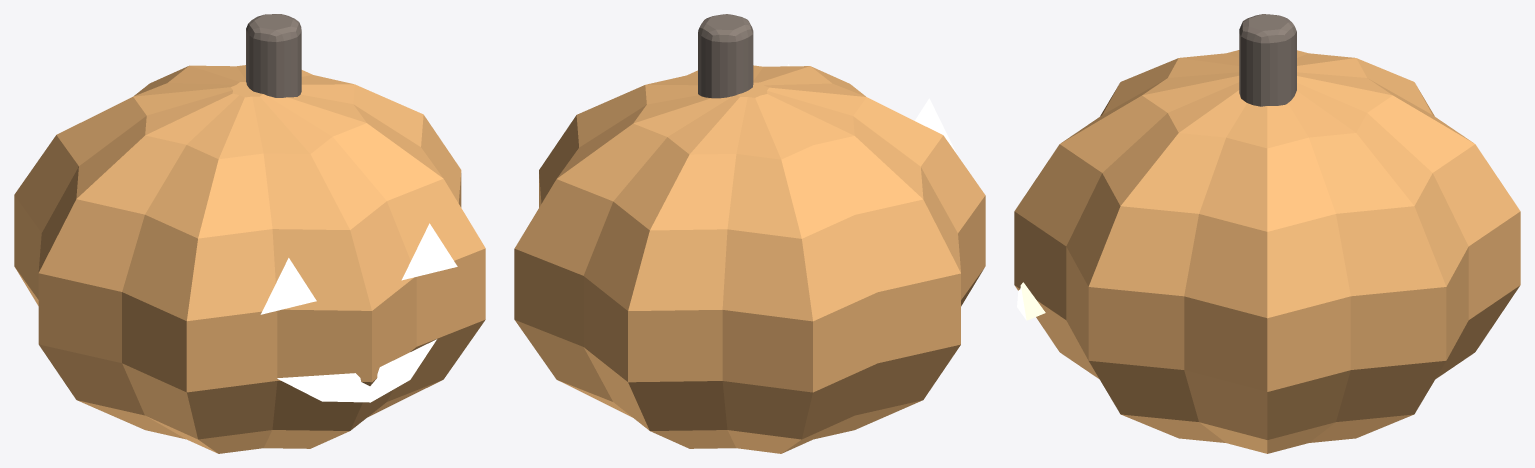
File: golden_harvestpumpkin.glb
The picture shows the model from 3 angles, left to right: view 1: azimuth 30°, elevation 25°; view 2: azimuth 150°, elevation 25°; view 3: azimuth 270°, elevation 25°; orthographic projection. The views are drawn at different scales.
Visible parts, largest first — view 1: GS_HarvestPumpkin_RibbedBody_HarvestOrange, GS_HarvestPumpkin_Stem_BarkWood, GS_HarvestPumpkin_Smile_CandleGold, GS_HarvestPumpkin_Eye-1_CandleGold, GS_HarvestPumpkin_Eye1_CandleGold; view 2: GS_HarvestPumpkin_RibbedBody_HarvestOrange, GS_HarvestPumpkin_Stem_BarkWood, GS_HarvestPumpkin_Eye-1_CandleGold; view 3: GS_HarvestPumpkin_RibbedBody_HarvestOrange, GS_HarvestPumpkin_Stem_BarkWood, GS_HarvestPumpkin_Smile_CandleGold.
Boxes of the visible parts, left/top/right/bottom form: GS_HarvestPumpkin_RibbedBody_HarvestOrange: left=14, top=65, right=485, bottom=453; GS_HarvestPumpkin_Stem_BarkWood: left=246, top=14, right=301, bottom=97; GS_HarvestPumpkin_Smile_CandleGold: left=277, top=339, right=436, bottom=402; GS_HarvestPumpkin_Eye-1_CandleGold: left=260, top=258, right=316, bottom=314; GS_HarvestPumpkin_Eye1_CandleGold: left=401, top=223, right=457, bottom=280; GS_HarvestPumpkin_RibbedBody_HarvestOrange: left=514, top=65, right=985, bottom=453; GS_HarvestPumpkin_Stem_BarkWood: left=698, top=14, right=753, bottom=98; GS_HarvestPumpkin_Eye-1_CandleGold: left=915, top=98, right=956, bottom=153; GS_HarvestPumpkin_RibbedBody_HarvestOrange: left=1014, top=50, right=1520, bottom=453; GS_HarvestPumpkin_Stem_BarkWood: left=1239, top=14, right=1296, bottom=106; GS_HarvestPumpkin_Smile_CandleGold: left=1017, top=282, right=1045, bottom=320.
Size of the model in its own units: 2.1 by 1.89 by 2.1.
